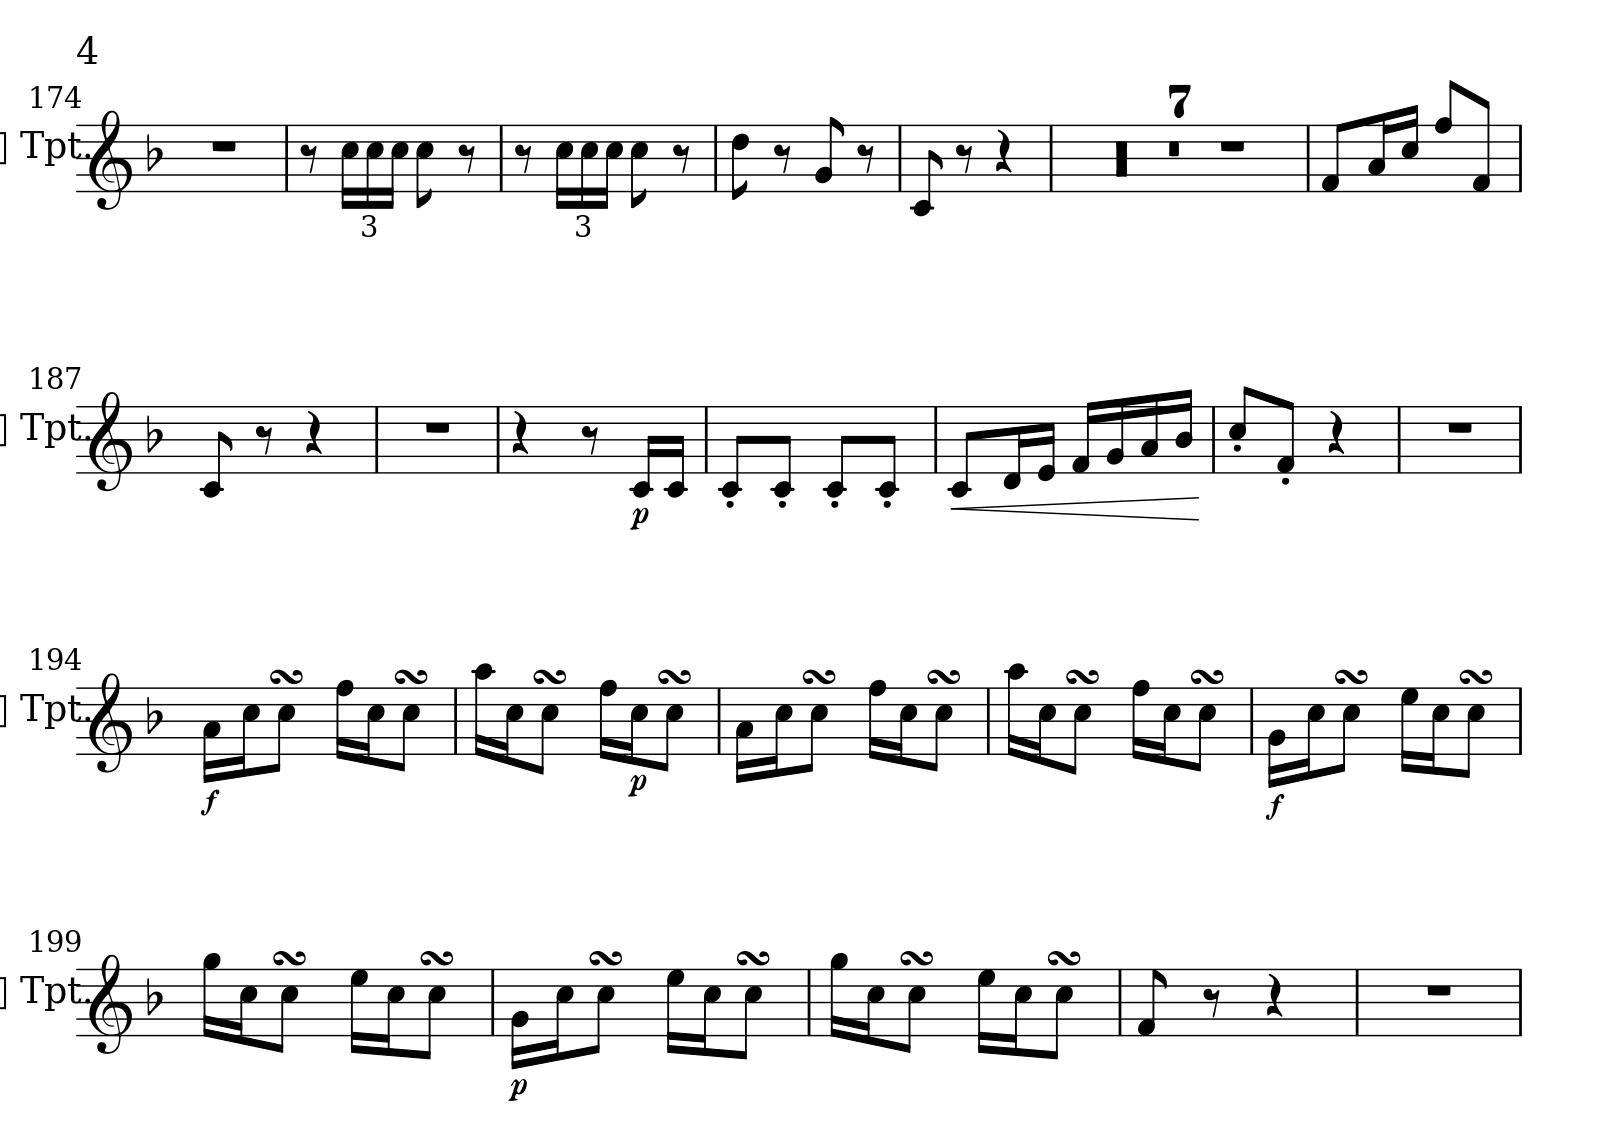1: (29, 82, 44, 112), (29, 363, 44, 392), (29, 926, 44, 955), (29, 645, 44, 672)
16_-1: (999, 403, 1028, 491)
16_-2: (627, 403, 657, 499), (662, 403, 687, 499)
16_0: (1035, 403, 1057, 483)
16_1: (1069, 400, 1098, 477)
16_10: (470, 661, 496, 758), (1003, 662, 1029, 759)
16_2: (508, 966, 530, 1069), (1266, 685, 1287, 786), (1105, 396, 1127, 474)
16_3: (733, 685, 755, 784), (200, 685, 222, 783), (1366, 110, 1391, 194), (1138, 391, 1160, 474)
16_4: (1173, 387, 1194, 474)
16_5: (546, 966, 574, 1064), (232, 684, 260, 780), (1296, 685, 1325, 781), (694, 966, 722, 1058), (378, 966, 406, 1057), (766, 685, 793, 778), (1423, 685, 1450, 776), (1006, 966, 1032, 1057), (623, 685, 650, 766), (231, 966, 258, 1046), (599, 122, 623, 209), (859, 966, 886, 1045), (385, 123, 409, 209), (360, 685, 386, 766), (892, 685, 918, 766), (1156, 685, 1182, 766), (499, 685, 524, 765), (1031, 685, 1056, 765), (338, 122, 359, 210), (1400, 101, 1420, 193), (554, 123, 573, 210), (578, 123, 598, 209), (364, 122, 382, 209)
16_7: (1398, 684, 1420, 775), (663, 966, 685, 1054), (348, 965, 369, 1056), (975, 965, 996, 1056)
16_8: (334, 677, 354, 761), (598, 678, 618, 761), (866, 678, 887, 761), (1130, 678, 1150, 761)
16_9: (200, 951, 221, 1040), (828, 951, 849, 1040)
3: (358, 213, 380, 238), (573, 213, 593, 239)
4: (76, 31, 100, 65), (64, 82, 83, 111), (64, 645, 83, 672)
7: (1168, 79, 1191, 116), (64, 363, 83, 391), (46, 81, 64, 111)
8: (46, 363, 64, 391)
8_-2: (198, 403, 235, 500), (908, 122, 945, 217), (716, 403, 749, 499), (820, 403, 853, 499), (946, 404, 978, 499), (769, 403, 795, 499), (874, 403, 901, 499)
8_1: (1135, 966, 1169, 1037), (1318, 120, 1348, 193), (1470, 95, 1491, 195), (1273, 396, 1296, 475)
8_2: (813, 114, 844, 192)
8_5: (418, 966, 447, 1062), (1458, 684, 1486, 780), (1046, 966, 1074, 1062), (268, 684, 297, 773), (1332, 685, 1361, 775), (587, 966, 616, 1056), (736, 966, 762, 1062), (532, 685, 560, 776), (393, 685, 422, 773), (657, 685, 685, 773), (926, 685, 954, 773), (1189, 685, 1217, 773), (271, 966, 299, 1054), (898, 966, 926, 1054), (1226, 382, 1252, 474), (1065, 685, 1092, 776), (802, 685, 828, 773), (414, 122, 435, 208), (629, 122, 649, 206)
8_6: (728, 122, 751, 202)
8_8: (1433, 78, 1459, 195)
9: (64, 927, 82, 954), (46, 644, 64, 672), (46, 926, 64, 954)
Crescendo_hairpin: (952, 495, 1202, 522)
Flat: (143, 412, 163, 453), (144, 693, 163, 734), (144, 131, 163, 171), (144, 975, 163, 1015)
Gclef: (87, 951, 132, 1054), (87, 389, 131, 492), (87, 670, 131, 773), (87, 108, 131, 210)
Rests1: (1213, 136, 1251, 156), (420, 418, 456, 437), (1442, 418, 1477, 437), (1421, 981, 1455, 1001), (206, 136, 241, 154)
Rests4: (508, 409, 532, 457), (1323, 408, 1347, 456), (1262, 971, 1284, 1019), (992, 127, 1013, 174), (303, 408, 323, 456)
Rests8: (578, 423, 602, 457), (253, 422, 275, 457), (1200, 986, 1223, 1019), (456, 141, 478, 175), (671, 141, 693, 174), (772, 141, 794, 174), (857, 142, 879, 175), (954, 142, 976, 175), (298, 141, 319, 175), (513, 141, 534, 174)
Single_barline: (1510, 966, 1529, 1037), (275, 123, 293, 192), (1511, 404, 1529, 474), (1511, 123, 1529, 192), (1391, 404, 1408, 473), (707, 125, 725, 192), (802, 966, 817, 1036), (711, 685, 727, 754), (485, 966, 501, 1035), (1112, 966, 1128, 1035), (1301, 123, 1317, 191), (369, 404, 385, 472), (1349, 968, 1365, 1035), (892, 125, 908, 191), (1043, 125, 1059, 191), (980, 685, 995, 756), (1244, 685, 1259, 756), (490, 404, 505, 473), (699, 406, 714, 474), (929, 407, 943, 473), (1207, 404, 1221, 473), (448, 685, 462, 754)
Slur: (1510, 685, 1530, 756)
Tpt: (17, 970, 81, 1014), (17, 689, 83, 729), (18, 408, 82, 450), (16, 125, 81, 165)
Turn: (1458, 663, 1494, 687), (925, 665, 962, 687), (269, 665, 305, 685), (532, 665, 568, 685), (1064, 665, 1101, 685), (1190, 665, 1224, 687), (1334, 665, 1369, 687), (272, 946, 307, 968), (419, 946, 453, 968), (899, 946, 934, 968), (656, 665, 692, 685), (802, 665, 837, 685), (1046, 947, 1081, 968), (736, 947, 770, 968), (393, 666, 429, 685), (589, 947, 623, 966)
f: (198, 787, 222, 816), (1263, 791, 1285, 820)
p: (505, 1075, 529, 1105), (627, 503, 650, 532), (626, 772, 649, 799)
